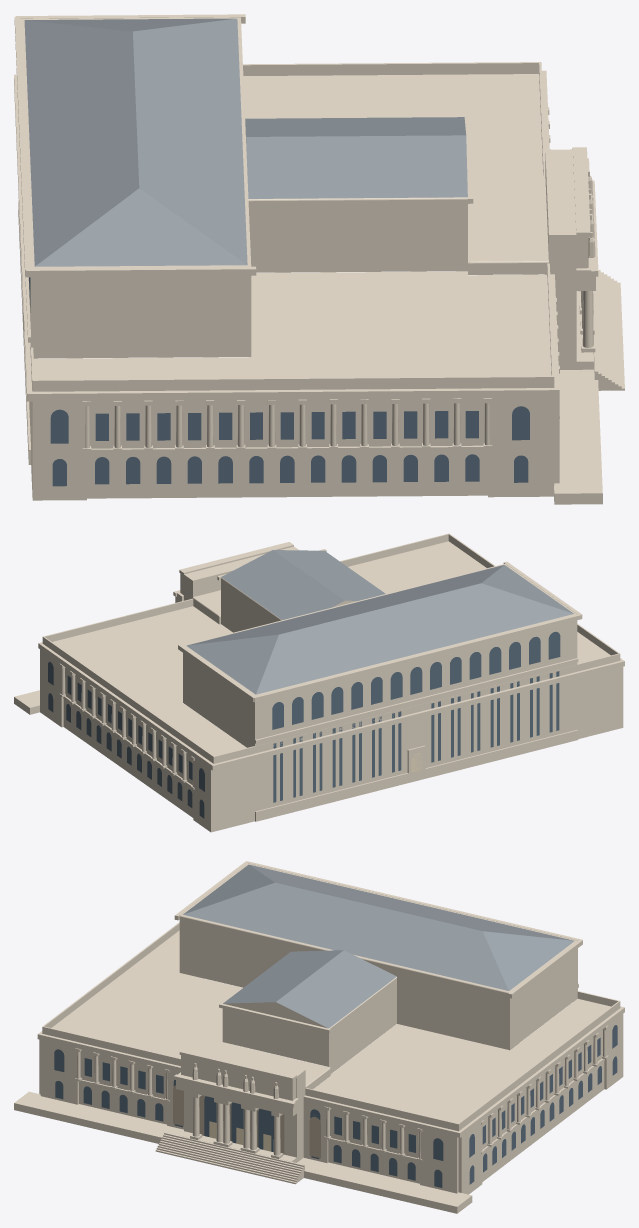
3 views of the same model, one above another, from view 1: azimuth 30°, elevation 25°; view 2: azimuth 150°, elevation 25°; view 3: azimuth 270°, elevation 25° (orthographic). The views are drawn at different scales.
Visible parts, largest first — view 1: new-york-public-library-stephen-a-schwarzman-building; view 2: new-york-public-library-stephen-a-schwarzman-building; view 3: new-york-public-library-stephen-a-schwarzman-building.
Part boxes in pixels (x1,y1,x2,y2): new-york-public-library-stephen-a-schwarzman-building: [14, 14, 624, 504]; new-york-public-library-stephen-a-schwarzman-building: [14, 533, 624, 832]; new-york-public-library-stephen-a-schwarzman-building: [14, 861, 624, 1213].
Bounding box in the file's own units: 146 × 42 × 159.
